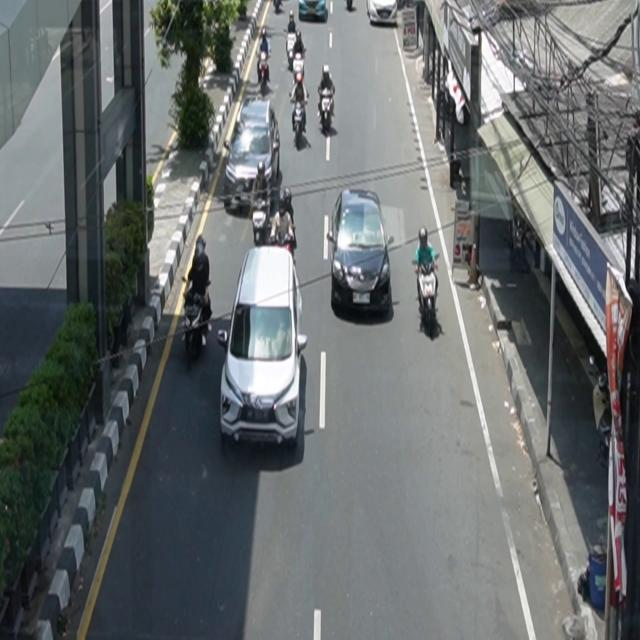car: (218, 245, 309, 449), (327, 190, 395, 316), (367, 1, 398, 26)
